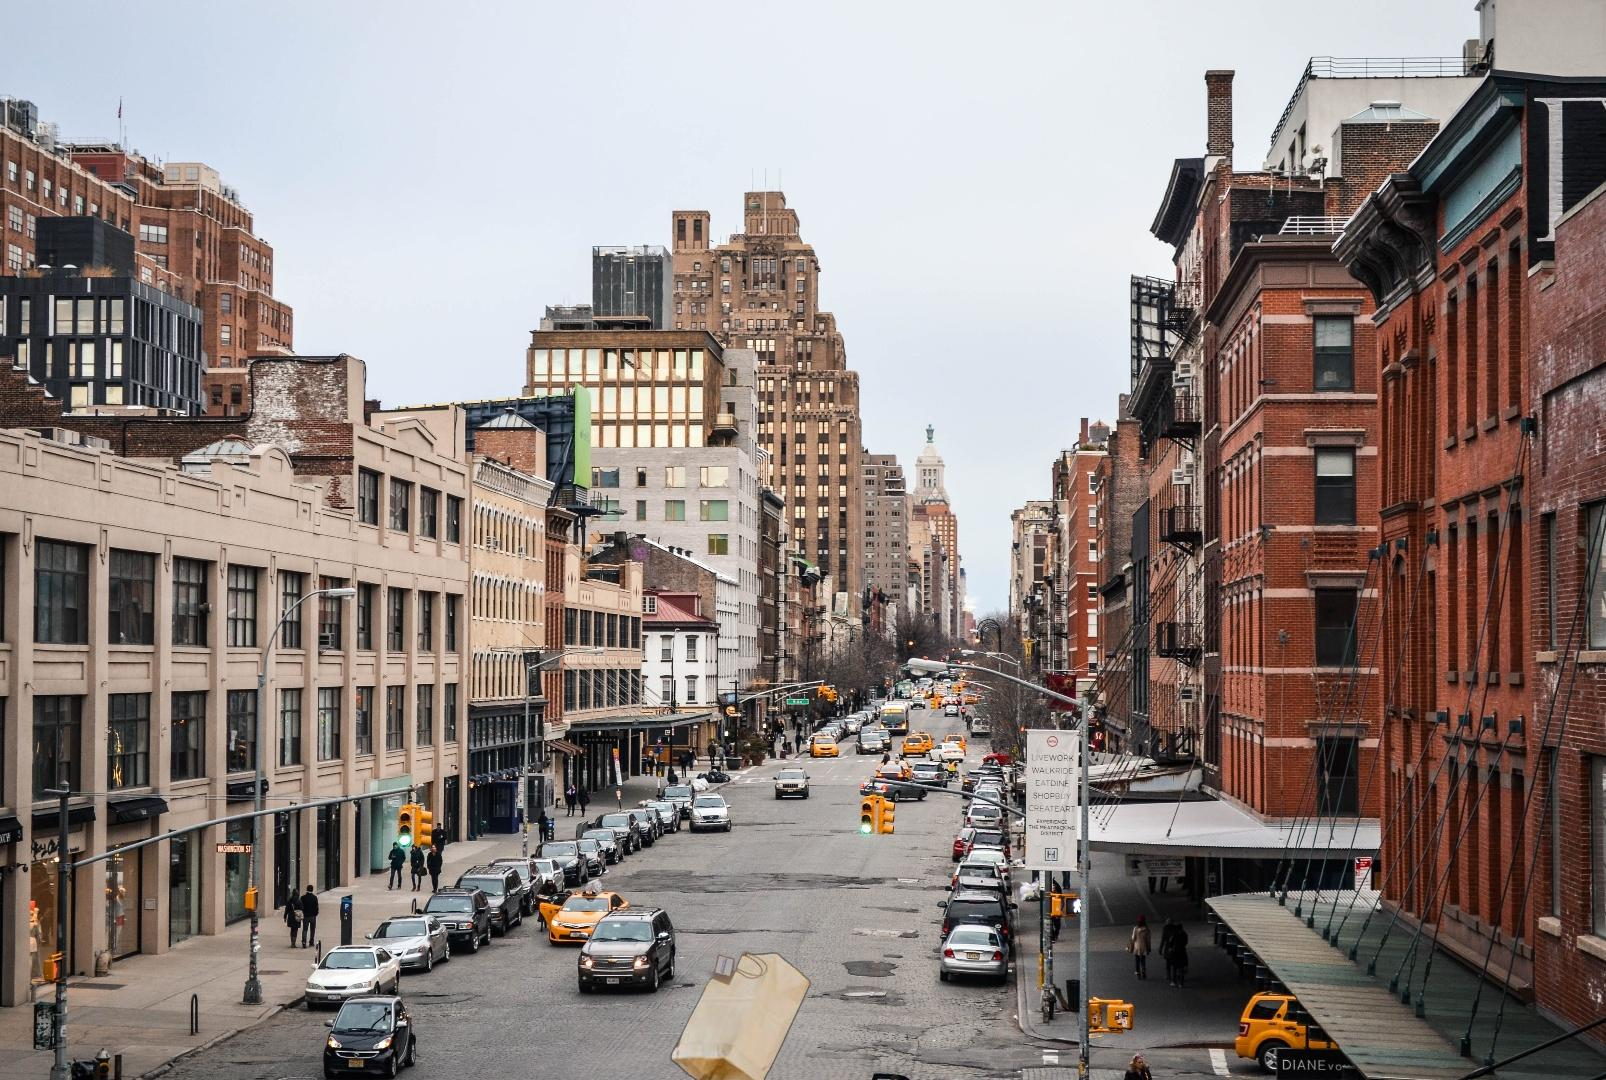paper-bag: (665, 926, 814, 1080)
